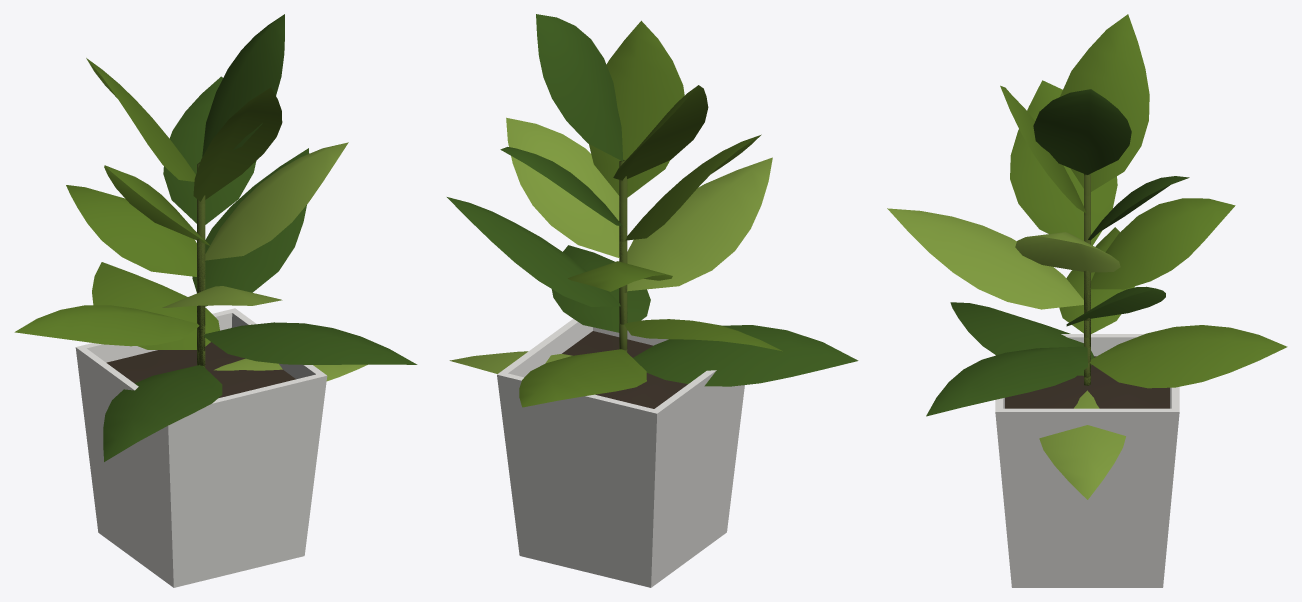
Rendered from greenery.table-plant.glb.
The picture shows the model from 3 angles, left to right: view 1: azimuth 30°, elevation 25°; view 2: azimuth 150°, elevation 25°; view 3: azimuth 270°, elevation 25°; orthographic projection.
Visible parts, largest first — view 1: greenery.table-plant.001; view 2: greenery.table-plant.001; view 3: greenery.table-plant.001.
Part boxes in pixels (left/top/right/bottom): greenery.table-plant.001: left=14, top=14, right=417, bottom=587; greenery.table-plant.001: left=447, top=14, right=858, bottom=587; greenery.table-plant.001: left=887, top=14, right=1287, bottom=587.
Bounding box in the file's own units: 0.3 × 0.42 × 0.3.
